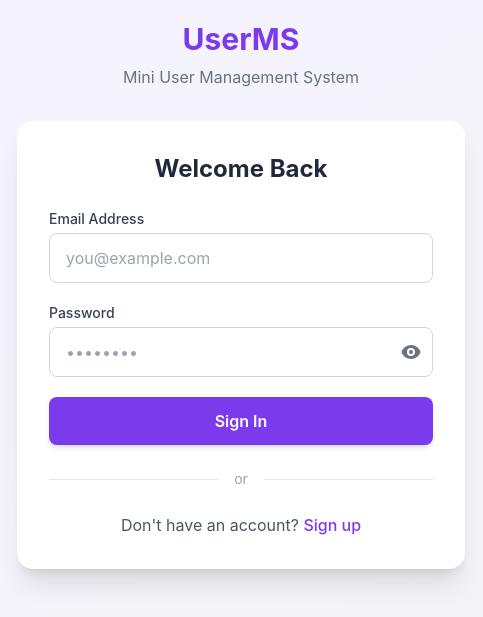
Test case: Login Component › shows password required error when only email is filled
The image size is (483, 617).
Type "test@example.com" into the field labelled "Email Address" at point(241, 258), box 49,233 -> 433,283
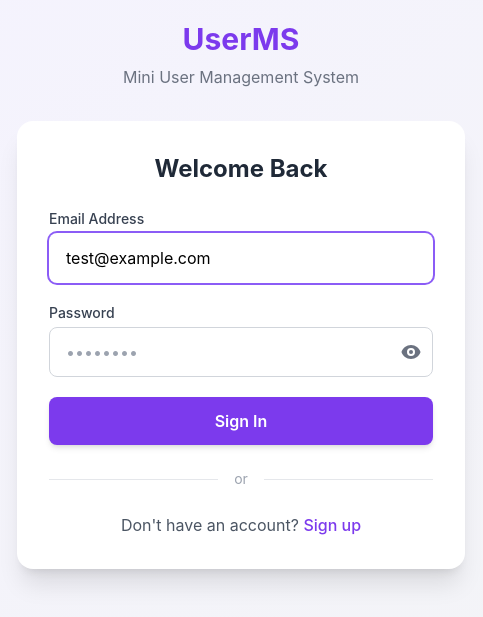
Click the button "Sign In" at point(241, 421), box 49,397 -> 433,445
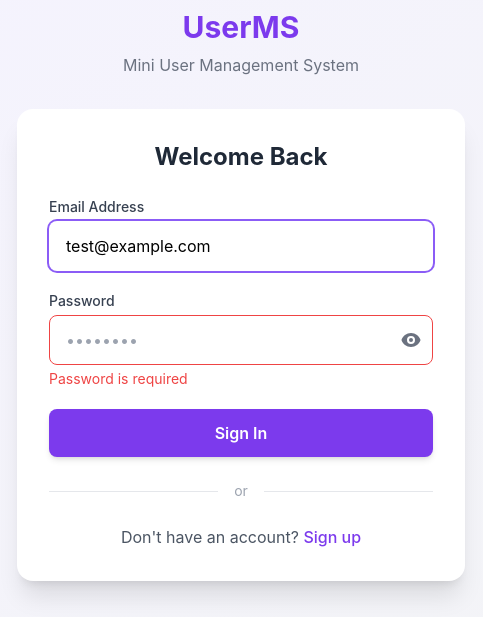
Check: the text "Password is required" is shown, box 49,370 -> 188,387
